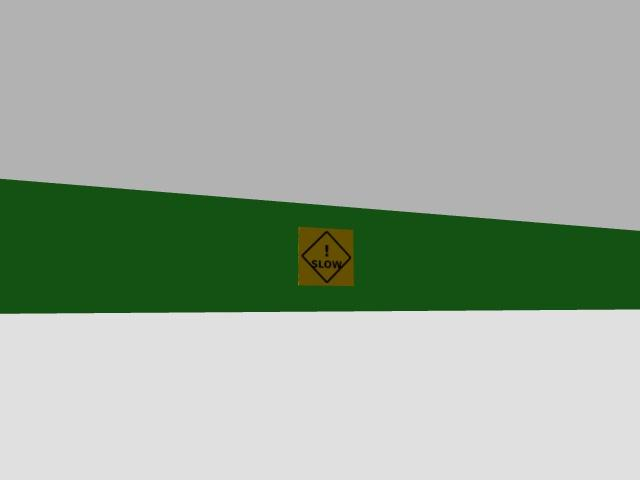slow: (298, 227, 353, 285), (298, 227, 352, 285)
